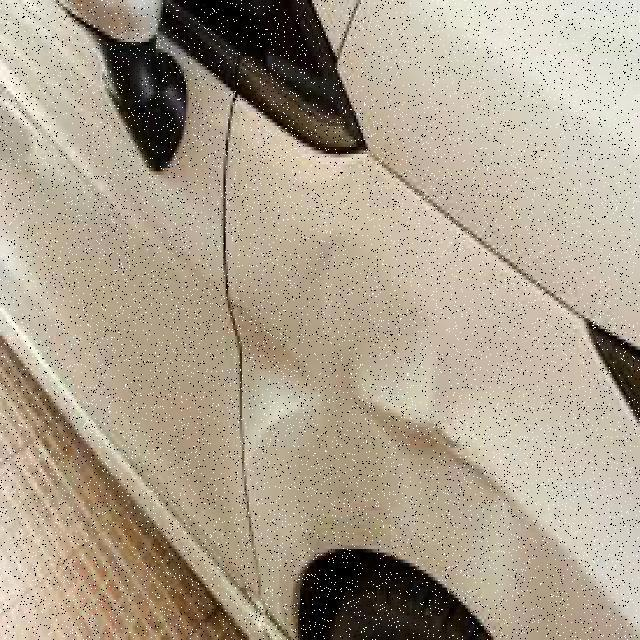fender-dent: (221, 244, 594, 636)
